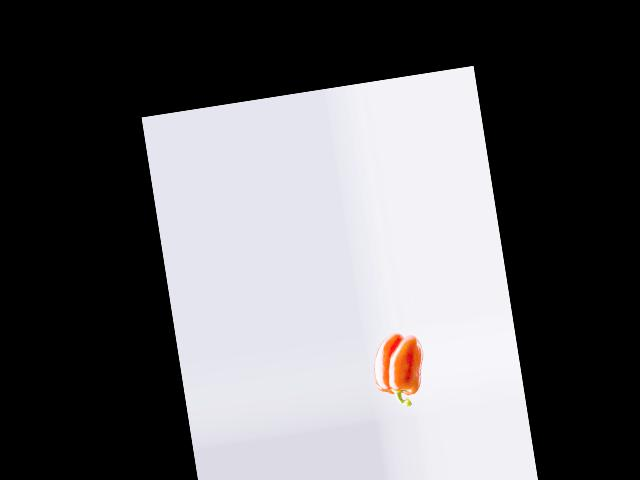bell_pepper: (366, 331, 431, 411)
